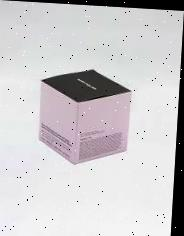cube: (40, 67, 133, 166)
